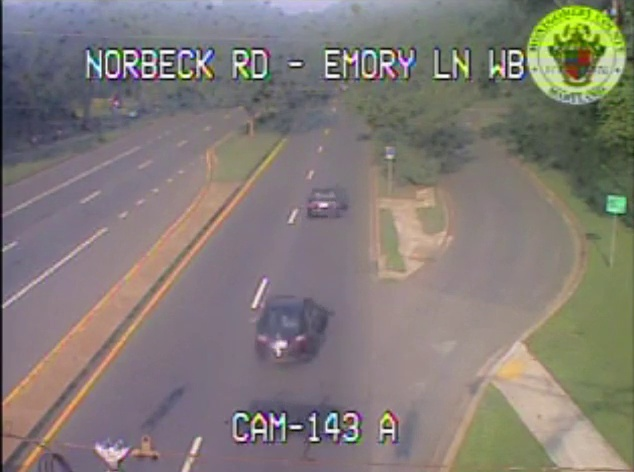car: (255, 296, 316, 363), (307, 189, 334, 215)
